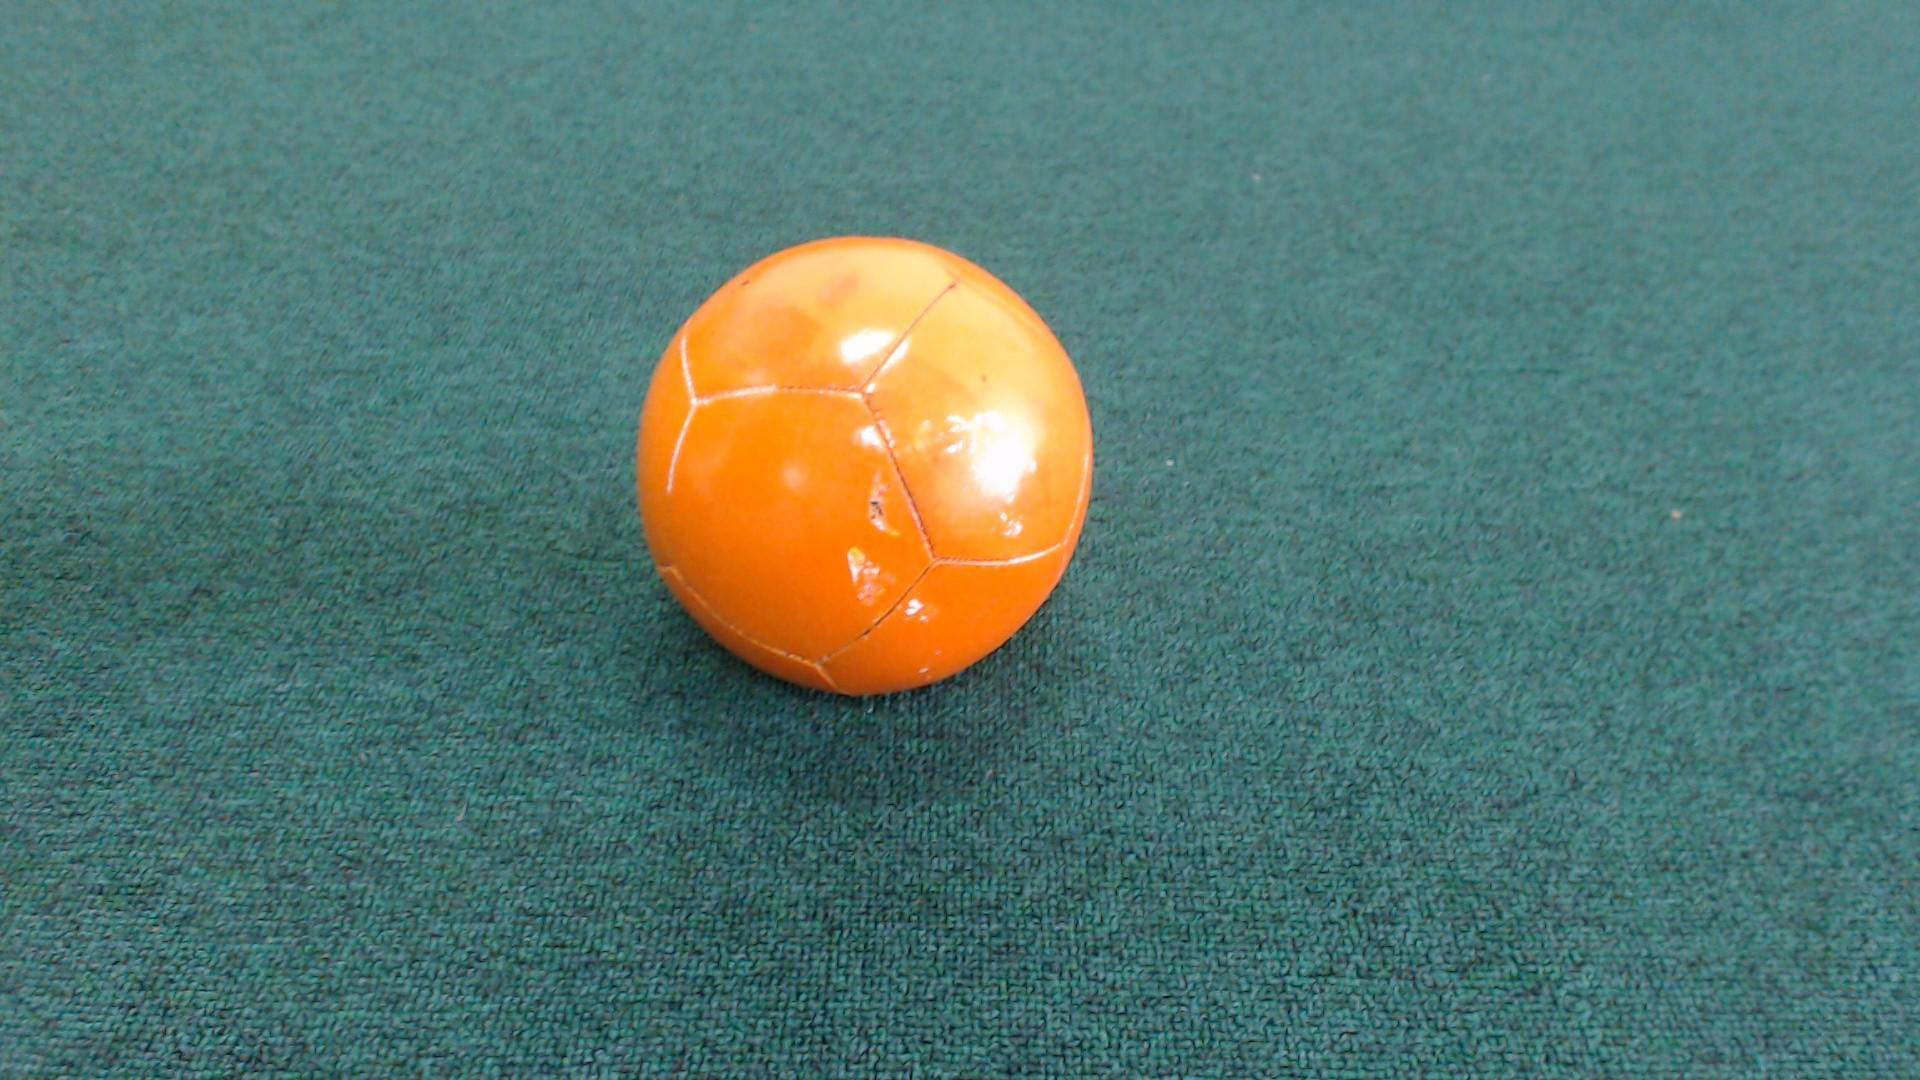bola: (608, 237, 1112, 712)
